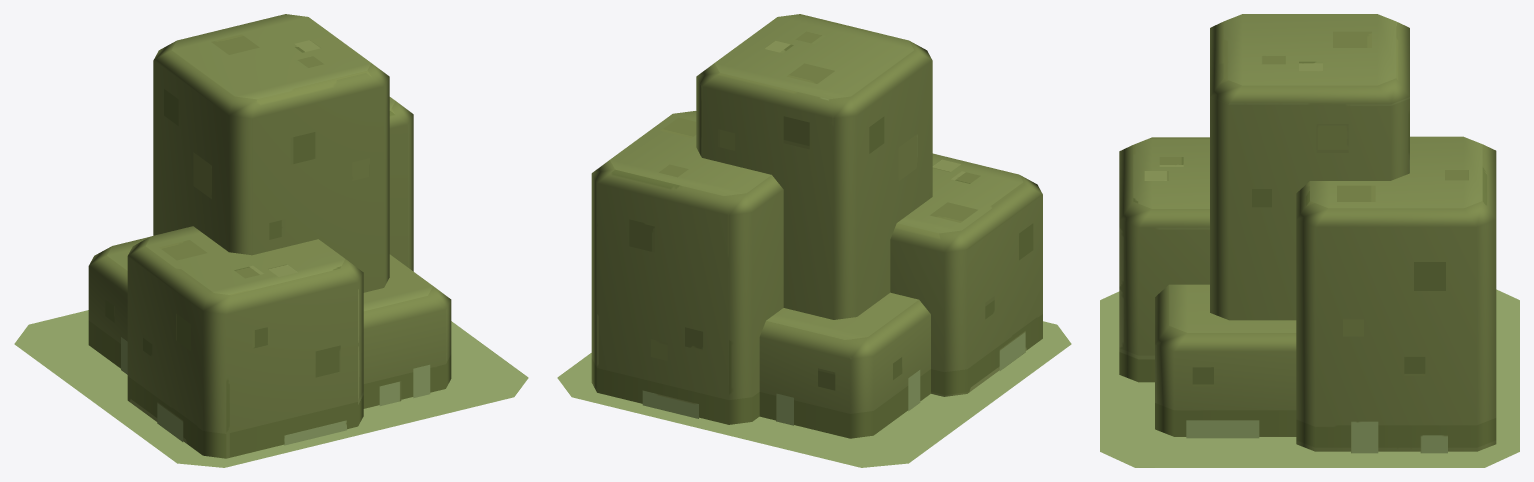
File: B_water2_rock02.fbx
3 views of the same model, side by side, from view 1: azimuth 30°, elevation 25°; view 2: azimuth 150°, elevation 25°; view 3: azimuth 270°, elevation 25° (orthographic). The views are drawn at different scales.
Visible parts, largest first — view 1: model 1; view 2: model 1; view 3: model 1.
Boxes of the visible parts, x1,y1,x2,y2 form: model 1: [14, 14, 528, 467]; model 1: [557, 14, 1071, 467]; model 1: [1100, 14, 1519, 467].
Bounding box in the file's own units: 4.65 × 3.89 × 4.48.
Materials: 1 (1 with a texture image).
